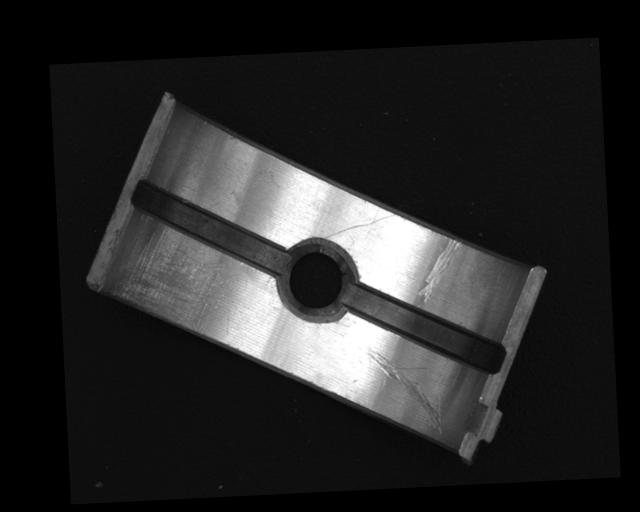gap: (129, 173, 289, 282), (346, 278, 506, 378)
hole: (274, 235, 361, 324)
nick: (367, 346, 443, 441), (413, 235, 464, 307), (322, 212, 397, 238)
scratch: (104, 223, 233, 336)
